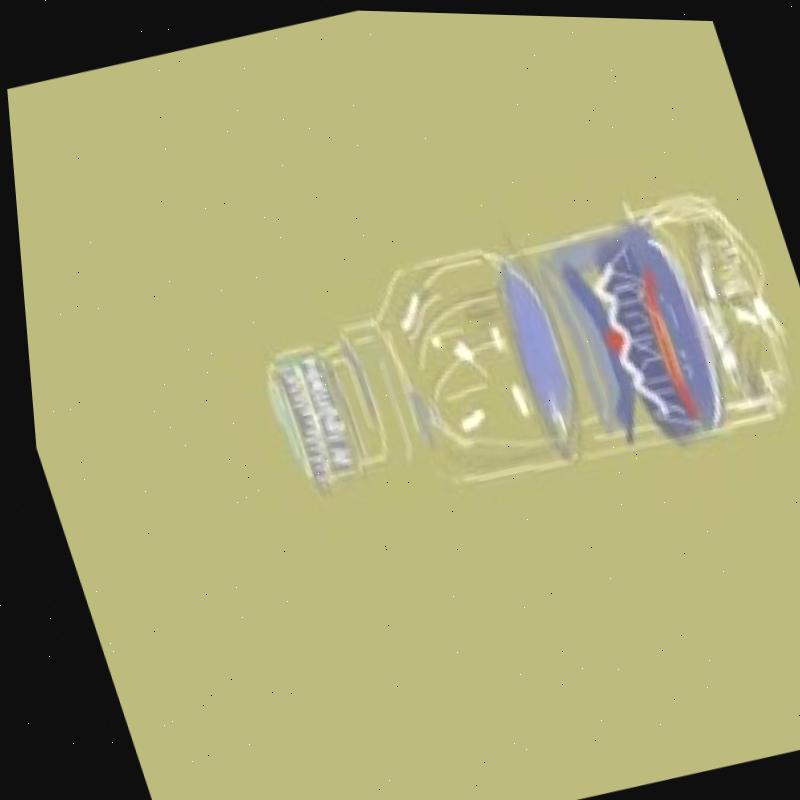botella: (225, 168, 800, 539)
